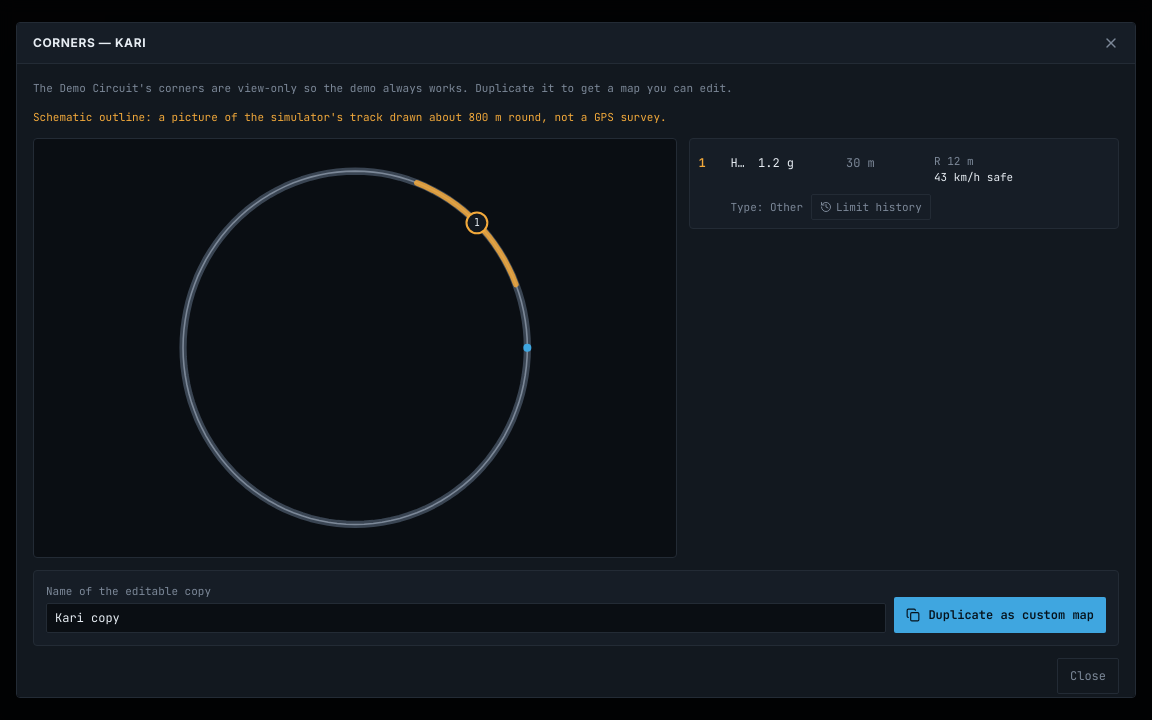
it: CornerEditorDialog (view-only) › shows the server's message when the copy name is taken
Click the button with test id "duplicate-btn". click: click(1000, 615)
box: x1=894 y1=597 x2=1106 y2=633
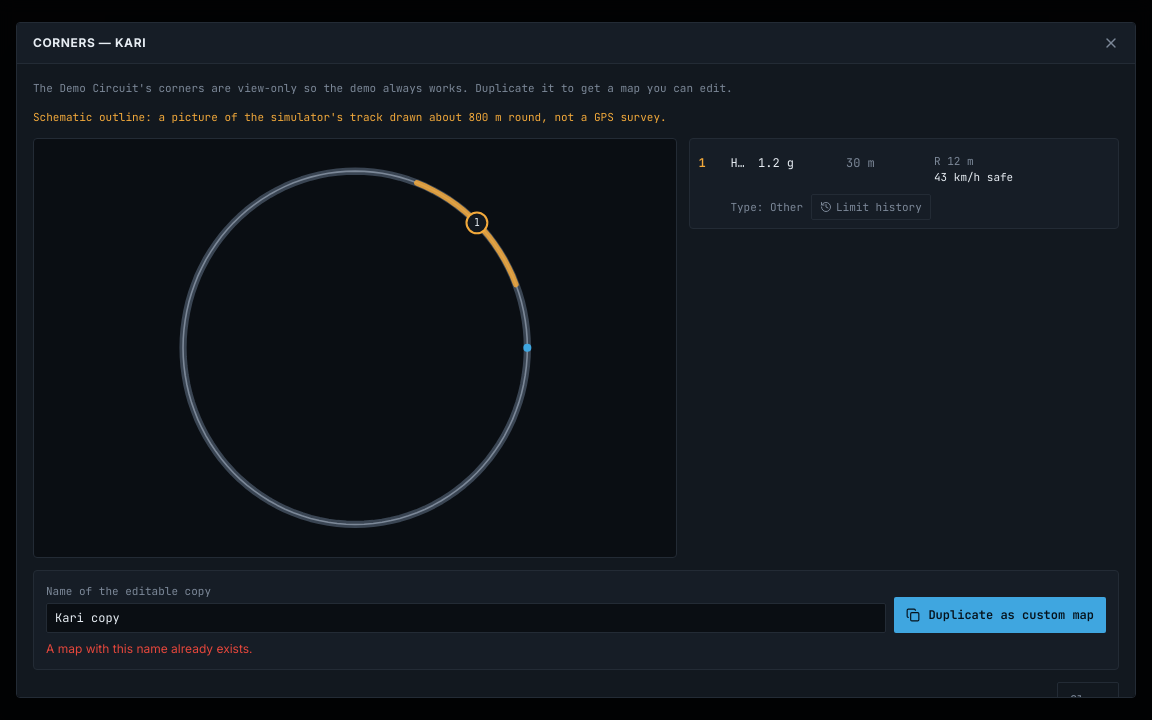
Check: the message with test id "duplicate-error" shows "already exists", box x1=46 y1=641 x2=253 y2=656
